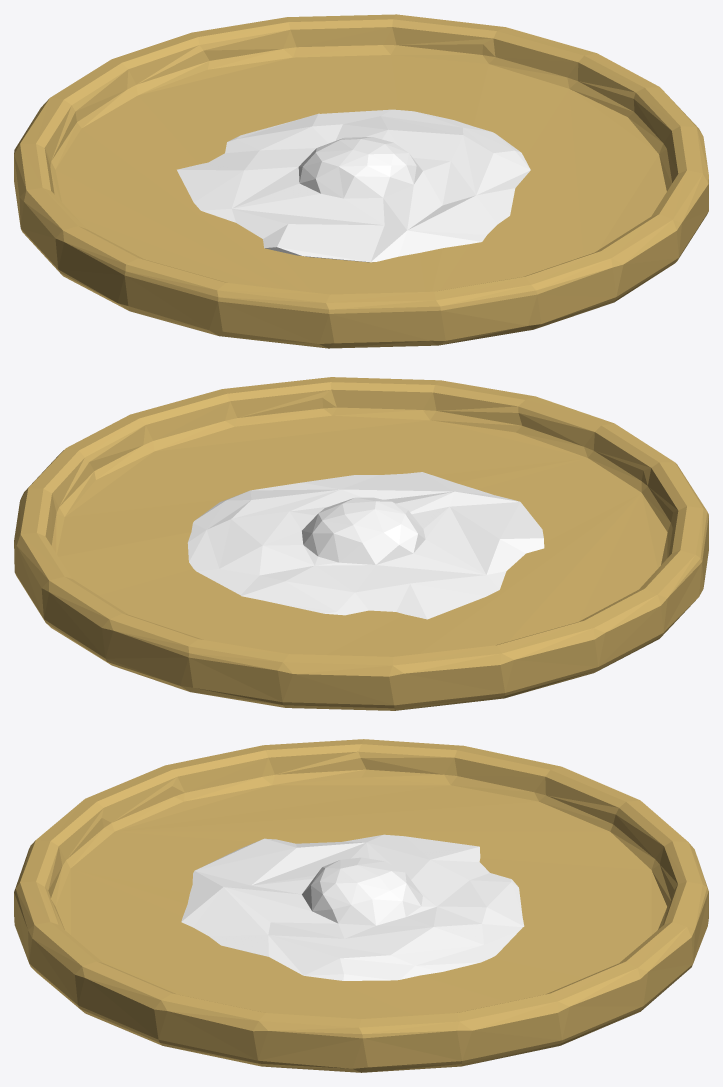
Rendered from PizzaEggLowPoly.fbx.
3 renders of one model, top to bottom at view 1: azimuth 30°, elevation 25°; view 2: azimuth 150°, elevation 25°; view 3: azimuth 270°, elevation 25°, orthographic.
Visible parts, largest first — view 1: PizzaForm, Egg; view 2: PizzaForm, Egg; view 3: PizzaForm, Egg.
Boxes of the visible parts, left/top/right/bottom form: PizzaForm: left=14, top=14, right=708, bottom=348; Egg: left=177, top=109, right=530, bottom=262; PizzaForm: left=14, top=377, right=708, bottom=710; Egg: left=187, top=472, right=544, bottom=619; PizzaForm: left=14, top=739, right=708, bottom=1072; Egg: left=181, top=834, right=524, bottom=980.
Bounding box in the file's own units: 199 × 18.59 × 199.
